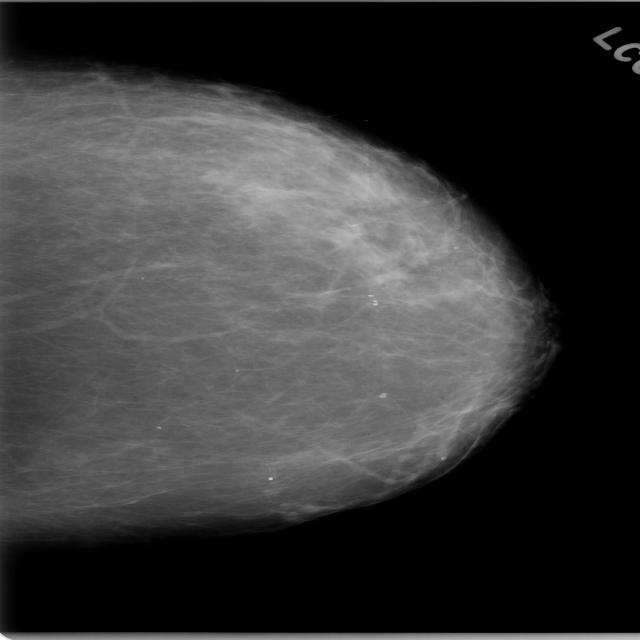normal: (0, 63, 522, 547)
